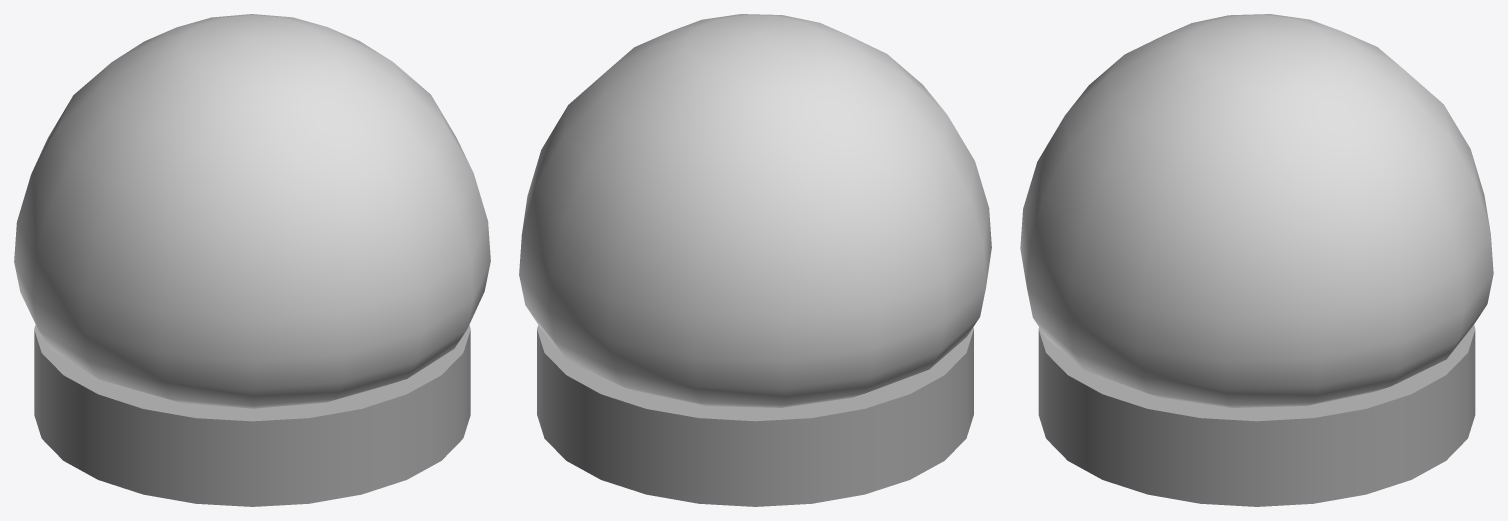
The model's file is Buttonm.fbx.
3 views of the same model, side by side, from view 1: azimuth 30°, elevation 25°; view 2: azimuth 150°, elevation 25°; view 3: azimuth 270°, elevation 25° (orthographic).
Parts seen in each view (by area): view 1: Плоскость.001, Окружность; view 2: Плоскость.001, Окружность; view 3: Плоскость.001, Окружность.
Boxes of the visible parts, x1,y1,x2,y2 form: Плоскость.001: (14, 14, 490, 408); Окружность: (34, 325, 470, 506); Плоскость.001: (519, 14, 991, 407); Окружность: (537, 325, 973, 506); Плоскость.001: (1020, 14, 1493, 407); Окружность: (1038, 325, 1475, 506).
Size of the model in its own units: 180 by 159 by 180.
1 material, 1 textured.
